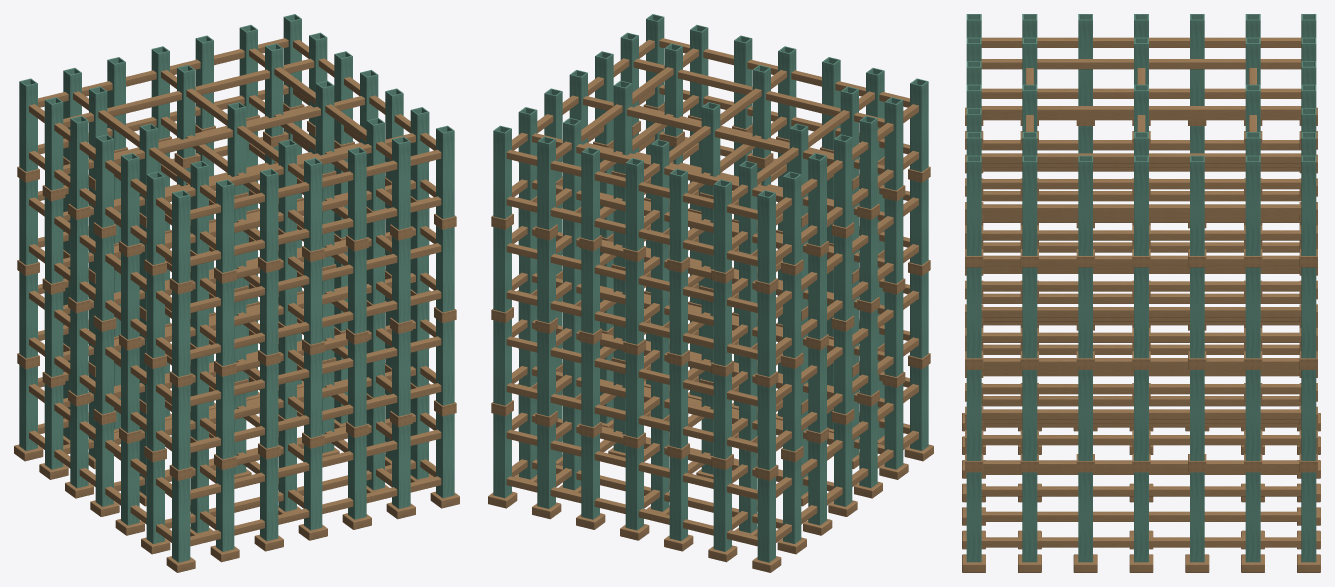
3 renders of one model, left to right at view 1: azimuth 30°, elevation 25°; view 2: azimuth 150°, elevation 25°; view 3: azimuth 270°, elevation 25°, orthographic. The views are drawn at different scales.
Visible parts, largest first — view 1: Tier 3 internal tie 0-0.56-0-0.75, Tier 3 internal tie 0-0-0-0.75, Tier 3 tie 0-0-0.25, Tier 0 tie 0-0-0.75, Tier 1 tie 0-0-0.75, Tier 2 tie 0-0-0.25, Tier 1 tie 0-0-0.25, Tier 0 tie 0-0-0.25, Tier 3 tie 0-0-0.75, Tier 2 tie 0-0-0.75, Tier 3 upright 0, Tier 3 upright 1 (+114 smaller); view 2: Tier 3 internal tie 0--0.56-0-0.75, Tier 3 internal tie 0-0-0-0.75, Tier 3 tie 2-0-0.25, Tier 0 tie 2-0-0.75, Tier 1 tie 2-0-0.75, Tier 2 tie 2-0-0.25, Tier 1 tie 2-0-0.25, Tier 0 tie 2-0-0.25, Tier 3 tie 2-0-0.75, Tier 2 tie 2-0-0.75, Tier 3 upright 18, Tier 3 upright 13 (+114 smaller); view 3: Tier 3 internal tie 1--0.56-0-0.75, Tier 3 internal tie 1-0-0-0.75, Tier 3 internal tie 1-0.56-0-0.75, Tier 0 tie 1-0-0.25, Tier 0 tie 1-0-0.75, Tier 1 internal tie 1-0.56-0-0.25, Tier 2 tie 1-0-0.75, Tier 3 internal tie 1-0.56-0-0.25, Tier 3 tie 1-0-0.25, Tier 0 internal tie 1-0.56-0-0.25, Tier 1 tie 1-0-0.25, Tier 1 tie 1-0-0.75 (+64 smaller).
Boxes of the visible parts, left/top/right/bottom form: Tier 3 internal tie 0-0.56-0-0.75: left=63, top=58, right=314, bottom=127; Tier 3 internal tie 0-0-0-0.75: left=114, top=96, right=364, bottom=164; Tier 3 tie 0-0-0.25: left=190, top=196, right=441, bottom=266; Tier 0 tie 0-0-0.75: left=190, top=429, right=441, bottom=499; Tier 1 tie 0-0-0.75: left=190, top=336, right=441, bottom=406; Tier 2 tie 0-0-0.25: left=190, top=289, right=441, bottom=359; Tier 1 tie 0-0-0.25: left=190, top=383, right=441, bottom=452; Tier 0 tie 0-0-0.25: left=190, top=476, right=441, bottom=546; Tier 3 tie 0-0-0.75: left=190, top=149, right=441, bottom=219; Tier 2 tie 0-0-0.75: left=190, top=243, right=441, bottom=312; Tier 3 upright 0: left=172, top=190, right=190, bottom=283; Tier 3 upright 1: left=216, top=179, right=234, bottom=272; Tier 3 internal tie 0--0.56-0-0.75: left=633, top=58, right=884, bottom=127; Tier 3 internal tie 0-0-0-0.75: left=583, top=96, right=833, bottom=164; Tier 3 tie 2-0-0.25: left=506, top=196, right=757, bottom=266; Tier 0 tie 2-0-0.75: left=506, top=429, right=757, bottom=499; Tier 1 tie 2-0-0.75: left=506, top=336, right=757, bottom=406; Tier 2 tie 2-0-0.25: left=506, top=289, right=757, bottom=359; Tier 1 tie 2-0-0.25: left=506, top=383, right=757, bottom=452; Tier 0 tie 2-0-0.25: left=506, top=476, right=757, bottom=546; Tier 3 tie 2-0-0.75: left=506, top=149, right=757, bottom=219; Tier 2 tie 2-0-0.75: left=506, top=243, right=757, bottom=312; Tier 3 upright 18: left=757, top=190, right=775, bottom=283; Tier 3 upright 13: left=537, top=136, right=555, bottom=229; Tier 3 internal tie 1--0.56-0-0.75: left=981, top=59, right=1301, bottom=69; Tier 3 internal tie 1-0-0-0.75: left=981, top=106, right=1301, bottom=116; Tier 3 internal tie 1-0.56-0-0.75: left=981, top=153, right=1301, bottom=163; Tier 0 tie 1-0-0.25: left=981, top=537, right=1301, bottom=547; Tier 0 tie 1-0-0.75: left=981, top=486, right=1301, bottom=496; Tier 1 internal tie 1-0.56-0-0.25: left=981, top=409, right=1301, bottom=419; Tier 2 tie 1-0-0.75: left=981, top=281, right=1301, bottom=291; Tier 3 internal tie 1-0.56-0-0.25: left=981, top=204, right=1301, bottom=214; Tier 3 tie 1-0-0.25: left=981, top=230, right=1301, bottom=240; Tier 0 internal tie 1-0.56-0-0.25: left=981, top=511, right=1301, bottom=521; Tier 1 tie 1-0-0.25: left=981, top=435, right=1301, bottom=445; Tier 1 tie 1-0-0.75: left=981, top=384, right=1301, bottom=394.
Size of the model in its own units: 1.8 by 2.27 by 1.8.
Materials: 2 (2 with a texture image).
